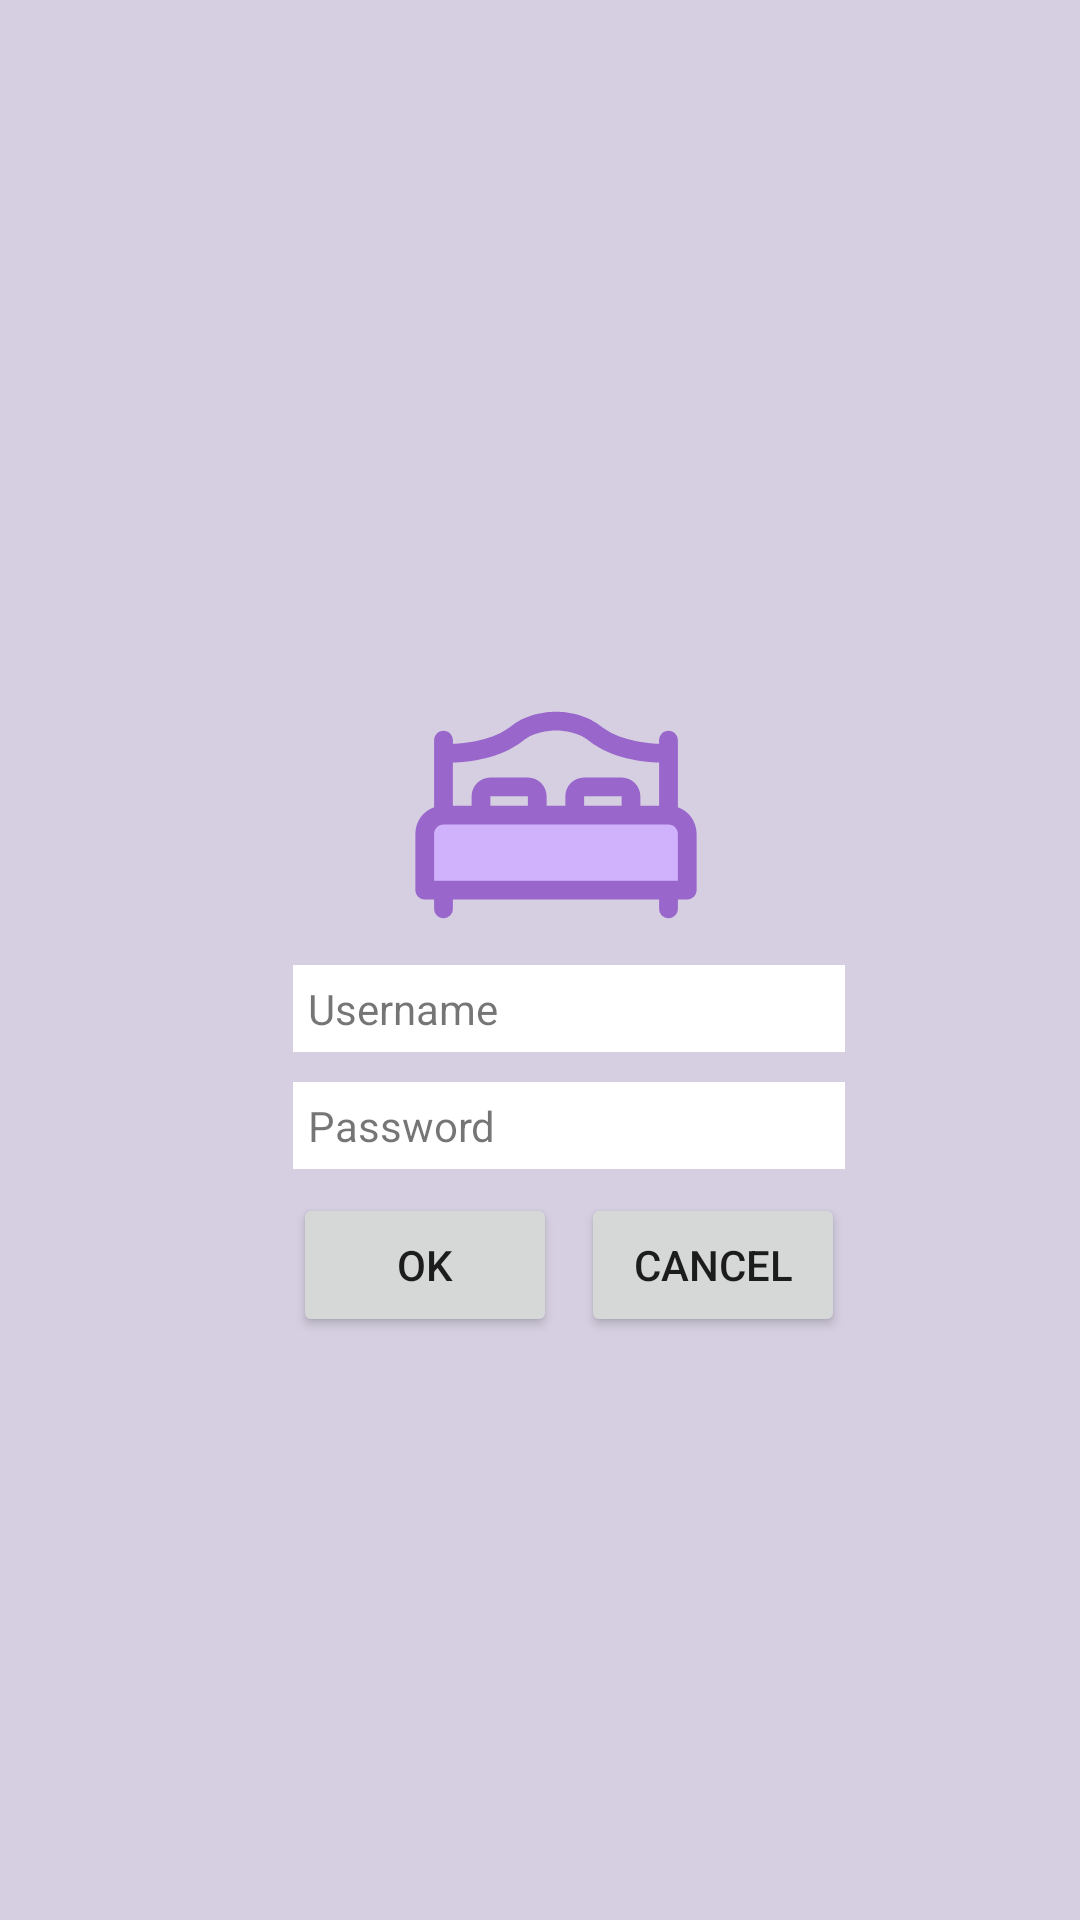

Icon bounding boxes for this 1080w x 1920h phone screenshot, format (x1, y1, x2, y2):
bed: (415, 711, 697, 918)
